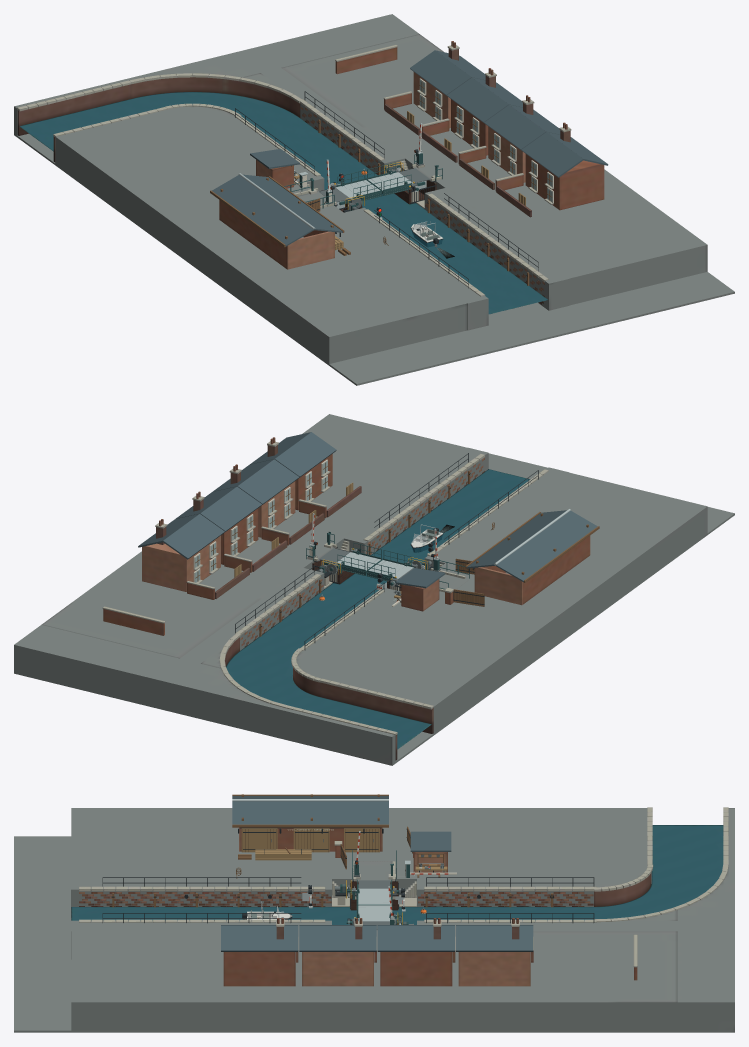
3 renders of one model, top to bottom at view 1: azimuth 30°, elevation 25°; view 2: azimuth 150°, elevation 25°; view 3: azimuth 270°, elevation 25°, orthographic. The views are drawn at different scales.
Visible parts, largest first — view 1: part/wharf/body, Canal_Water, part/wharf/roof, part/wharf/brick, part/wharf/stone, part/wharf/brick_dark, part/wharf/brick_light, part/wharf/cream, part/wharf/wood, part/wharf/black, part/wharf/glass; view 2: part/wharf/body, Canal_Water, part/wharf/roof, part/wharf/brick_light, part/wharf/stone, part/wharf/brick, part/wharf/brick_dark, part/wharf/wood, part/wharf/cream, part/wharf/black, part/wharf/glass; view 3: part/wharf/body, part/wharf/roof, Canal_Water, part/wharf/brick, part/wharf/brick_light, part/wharf/stone, part/wharf/wood_light, part/wharf/black, part/wharf/wood, part/wharf/brick_dark, part/wharf/zinc, part/east/deck (+2 smaller).
Boxes of the visible parts, box(x1,y1,x2,y2) form: part/wharf/body: box(14, 14, 734, 385); Canal_Water: box(19, 92, 547, 314); part/wharf/roof: box(212, 50, 608, 246); part/wharf/brick: box(219, 41, 604, 268); part/wharf/stone: box(17, 44, 571, 296); part/wharf/brick_dark: box(17, 49, 570, 217); part/wharf/brick_light: box(219, 72, 544, 304); part/wharf/cream: box(294, 78, 553, 202); part/wharf/wood: box(210, 81, 551, 285); part/wharf/black: box(235, 91, 538, 288); part/wharf/glass: box(420, 80, 552, 201); part/wharf/body: box(14, 414, 734, 765); Canal_Water: box(226, 469, 530, 749); part/wharf/roof: box(138, 432, 597, 588); part/wharf/brick_light: box(142, 457, 590, 647); part/wharf/stone: box(102, 441, 548, 734); part/wharf/brick: box(103, 437, 589, 635); part/wharf/brick_dark: box(156, 445, 433, 760); part/wharf/wood: box(195, 462, 599, 636); part/wharf/cream: box(193, 459, 401, 606); part/wharf/black: box(235, 453, 538, 650); part/wharf/glass: box(195, 461, 327, 582); part/wharf/body: box(14, 808, 734, 1032); part/wharf/roof: box(221, 796, 533, 951); Canal_Water: box(71, 825, 723, 924); part/wharf/brick: box(79, 828, 637, 986); part/wharf/brick_light: box(79, 827, 593, 986); part/wharf/stone: box(79, 807, 728, 967); part/wharf/wood_light: box(241, 828, 447, 870); part/wharf/black: box(102, 827, 594, 923); part/wharf/wood: box(112, 794, 553, 907); part/wharf/brick_dark: box(276, 873, 651, 939); part/wharf/zinc: box(232, 799, 445, 876); part/east/deck: box(358, 905, 390, 921).
Size of the model in its own units: 44 by 9.72 by 69.
139 materials, 133 textured.
